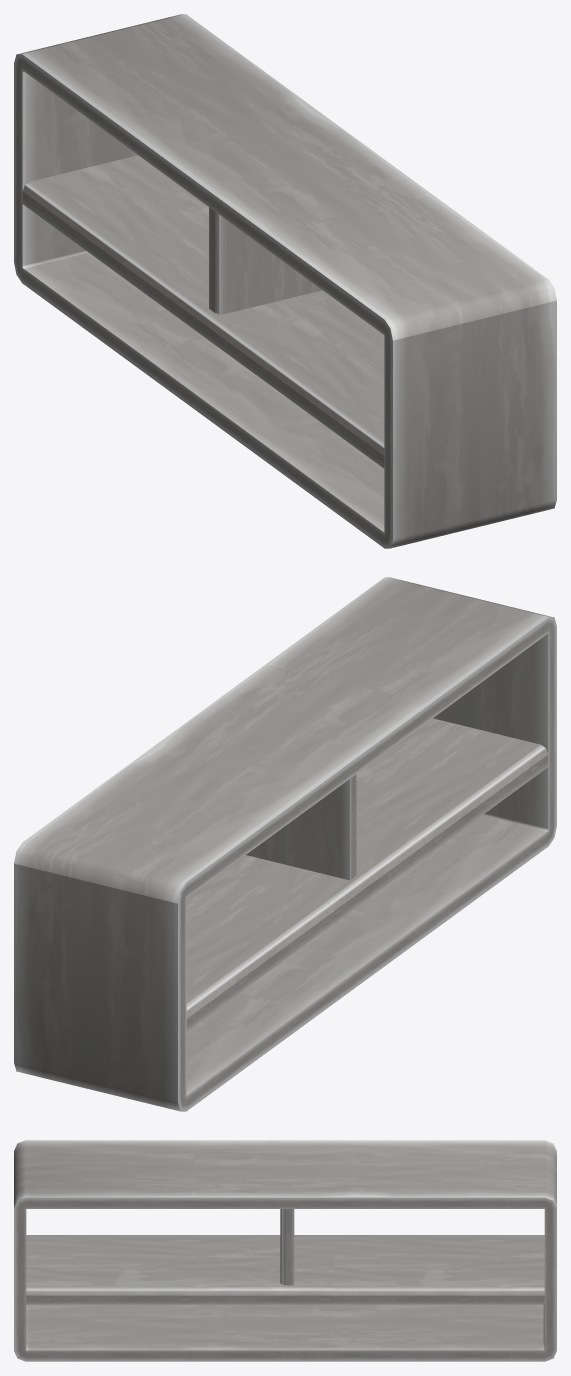
The model's file is kommode.fbx.
3 renders of one model, top to bottom at view 1: azimuth 30°, elevation 25°; view 2: azimuth 150°, elevation 25°; view 3: azimuth 270°, elevation 25°, orthographic. The views are drawn at different scales.
Visible parts, largest first — view 1: Plane.002; view 2: Plane.002; view 3: Plane.002.
Part boxes in pixels (<box>): Plane.002: <box>14,14,556,548</box>; Plane.002: <box>14,577,556,1111</box>; Plane.002: <box>14,1140,556,1361</box>.
Bounding box in the file's own units: 75 × 100 × 300.
